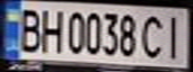0: (63, 7, 84, 55), (84, 8, 103, 56)
3: (100, 9, 121, 57)
8: (118, 10, 142, 58)
B: (12, 5, 45, 53)
C: (139, 11, 169, 60)
H: (36, 6, 63, 54)
I: (160, 11, 190, 61)
